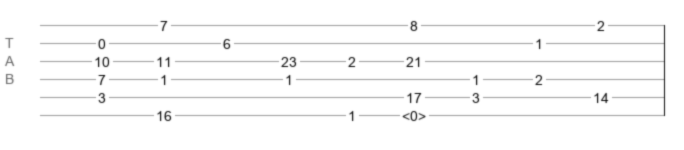0: (98, 36, 106, 46)
1: (160, 72, 168, 82), (285, 72, 293, 82), (348, 108, 356, 118), (472, 72, 480, 82), (535, 36, 543, 46)
10: (94, 54, 110, 64)
11: (156, 54, 172, 64)
14: (593, 90, 609, 100)
16: (156, 108, 172, 118)
17: (406, 90, 422, 100)
2: (348, 54, 356, 64), (535, 72, 543, 82), (597, 18, 605, 28)
21: (406, 54, 422, 64)
23: (281, 54, 297, 64)
3: (98, 90, 106, 100), (472, 90, 480, 100)
6: (223, 36, 231, 46)
7: (98, 72, 106, 82), (160, 18, 168, 28)
8: (410, 18, 418, 28)
harmonic: (402, 108, 426, 118)
